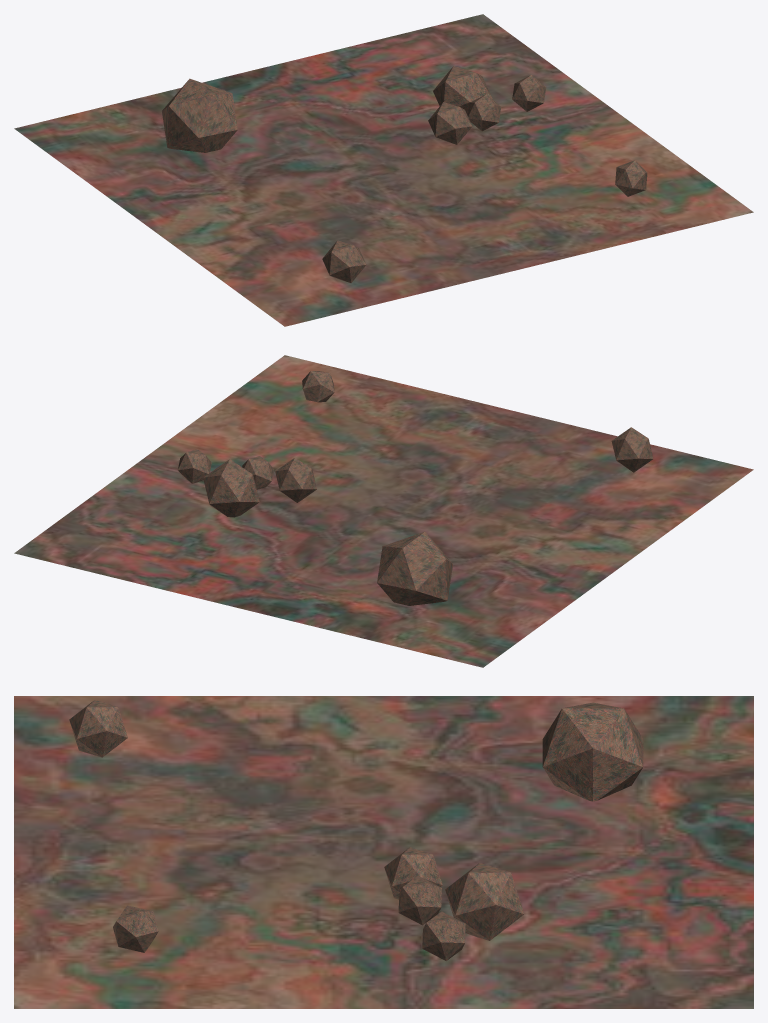
File: cave_floor_decor_001.glb
3 views of the same model, one above another, from view 1: azimuth 30°, elevation 25°; view 2: azimuth 150°, elevation 25°; view 3: azimuth 270°, elevation 25° (orthographic). The views are drawn at different scales.
Visible parts, largest first — view 1: cave_floor_decor.001; view 2: cave_floor_decor.001; view 3: cave_floor_decor.001.
Boxes of the visible parts, x1,y1,x2,y2 form: cave_floor_decor.001: [14, 14, 753, 326]; cave_floor_decor.001: [14, 355, 753, 667]; cave_floor_decor.001: [14, 696, 753, 1008].
Size of the model in its own units: 2 by 0.2713 by 2.
1 material, 1 textured.
